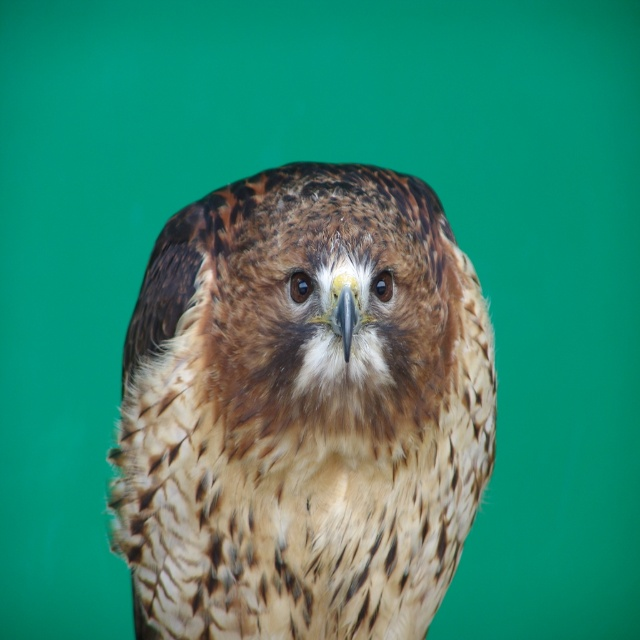Owl: (108, 159, 501, 639)
